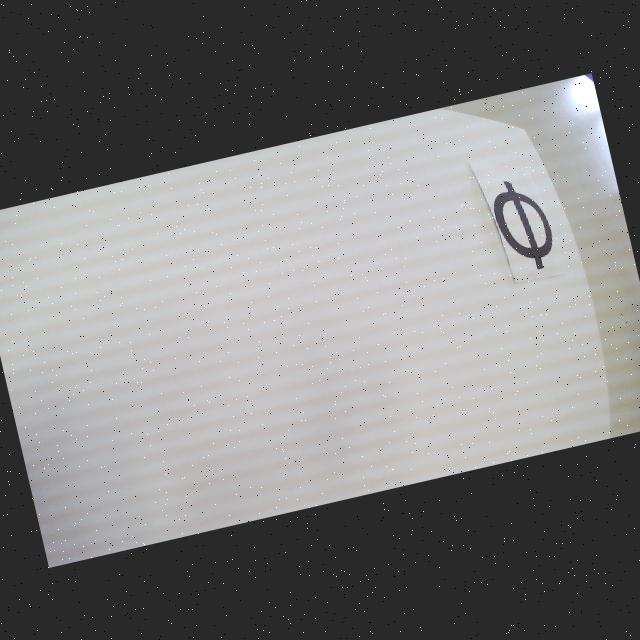PHI: (488, 172, 560, 275)
